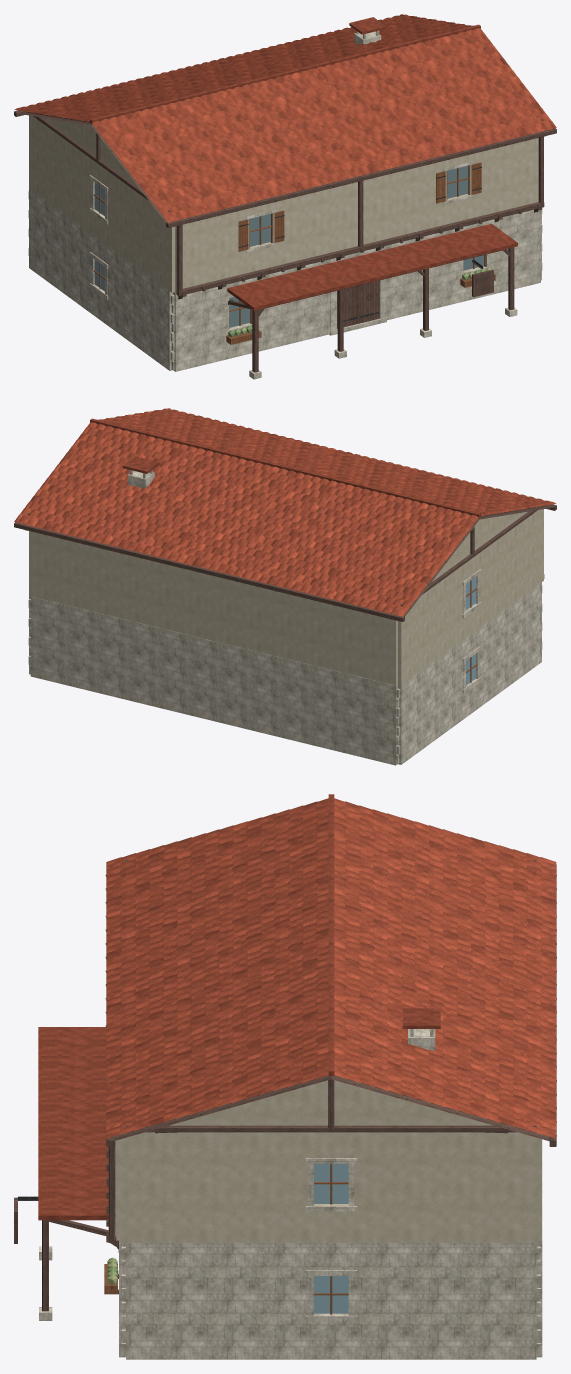
The model's file is B02_posada.glb.
3 views of the same model, one above another, from view 1: azimuth 30°, elevation 25°; view 2: azimuth 150°, elevation 25°; view 3: azimuth 270°, elevation 25° (orthographic). The views are drawn at different scales.
Visible parts, largest first — view 1: AUR034_B02_clay_tiles, AUR034_B02_upper_plaster, AUR034_B02_lower_masonry, AUR034_B02_porch_clay_roof, AUR034_B02_sill, AUR034_B02_fascia-1, AUR034_B02_ridge, AUR034_B02_gable-1, AUR034_B02_entry_leaf1, AUR034_B02_gable_tie-1, AUR034_B02_window3_glazing, AUR034_B02_entry_leaf0 (+4 smaller); view 2: AUR034_B02_clay_tiles, AUR034_B02_lower_masonry, AUR034_B02_upper_plaster, AUR034_B02_fascia1, AUR034_B02_ridge, AUR034_B02_gable-1, AUR034_B02_gable_tie-1, AUR034_B02_roof_sheathing, AUR034_B02_dressed_corner_stones; view 3: AUR034_B02_clay_tiles, AUR034_B02_lower_masonry, AUR034_B02_upper_plaster, AUR034_B02_porch_clay_roof, AUR034_B02_gable1, AUR034_B02_gable_tie1, AUR034_B02_roof_sheathing, AUR034_B02_ridge, AUR034_B02_upper_side_window1_glass, AUR034_B02_side_window1_0_glass, AUR034_B02_dressed_corner_stones, AUR034_B02_cowl.
Part boxes in pixels (<box>): AUR034_B02_clay_tiles: <box>14,14,556,222</box>; AUR034_B02_upper_plaster: <box>29,115,538,292</box>; AUR034_B02_lower_masonry: <box>29,188,541,371</box>; AUR034_B02_porch_clay_roof: <box>227,223,517,310</box>; AUR034_B02_sill: <box>176,202,544,295</box>; AUR034_B02_fascia-1: <box>166,128,556,227</box>; AUR034_B02_ridge: <box>90,24,480,123</box>; AUR034_B02_gable-1: <box>43,117,139,188</box>; AUR034_B02_entry_leaf1: <box>357,280,379,323</box>; AUR034_B02_gable_tie-1: <box>27,108,170,211</box>; AUR034_B02_window3_glazing: <box>447,165,468,198</box>; AUR034_B02_entry_leaf0: <box>337,286,357,328</box>; AUR034_B02_clay_tiles: <box>14,408,556,616</box>; AUR034_B02_lower_masonry: <box>29,582,541,765</box>; AUR034_B02_upper_plaster: <box>29,509,543,685</box>; AUR034_B02_fascia1: <box>14,522,404,621</box>; AUR034_B02_ridge: <box>90,418,480,517</box>; AUR034_B02_gable-1: <box>431,511,527,582</box>; AUR034_B02_gable_tie-1: <box>400,502,543,605</box>; AUR034_B02_roof_sheathing: <box>342,461,553,616</box>; AUR034_B02_dressed_corner_stones: <box>28,585,542,763</box>; AUR034_B02_clay_tiles: <box>106,798,556,1138</box>; AUR034_B02_lower_masonry: <box>119,1139,542,1359</box>; AUR034_B02_upper_plaster: <box>114,1133,541,1242</box>; AUR034_B02_porch_clay_roof: <box>38,1027,108,1220</box>; AUR034_B02_gable1: <box>142,1080,520,1133</box>; AUR034_B02_gable_tie1: <box>126,1125,536,1132</box>; AUR034_B02_roof_sheathing: <box>113,1075,549,1141</box>; AUR034_B02_ridge: <box>328,794,334,1076</box>; AUR034_B02_upper_side_window1_glass: <box>314,1163,348,1203</box>; AUR034_B02_side_window1_0_glass: <box>314,1276,348,1313</box>; AUR034_B02_dressed_corner_stones: <box>121,1246,540,1355</box>; AUR034_B02_cowl: <box>402,1008,440,1028</box>.
Bounding box in the file's own units: 15.96 × 7.95 × 13.22.
13 materials, 8 textured.
